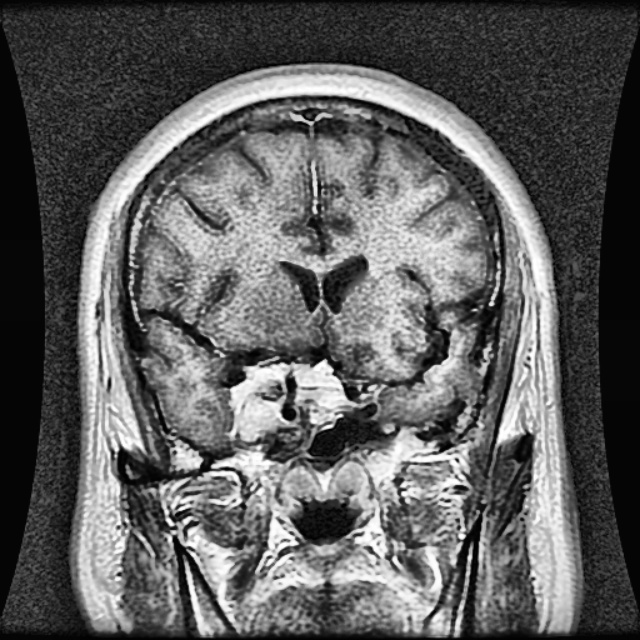Glioma: (227, 355, 350, 442)
